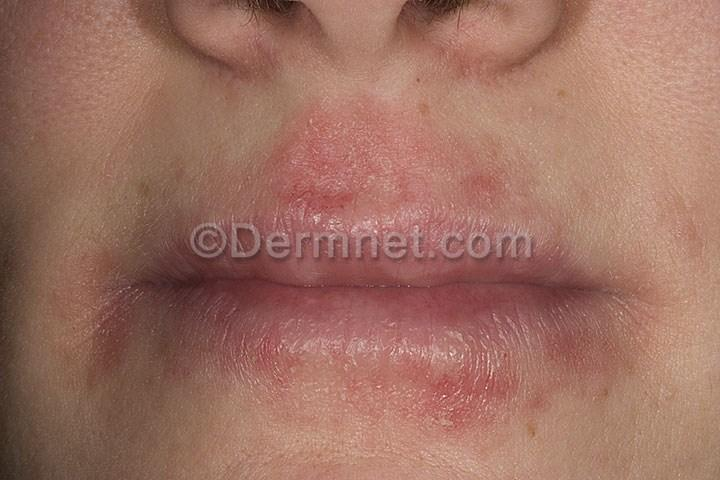eritema 1: (266, 102, 516, 218)
exudacion 1: (415, 356, 553, 432), (278, 182, 360, 211)
xerosis 1: (72, 212, 656, 397)
